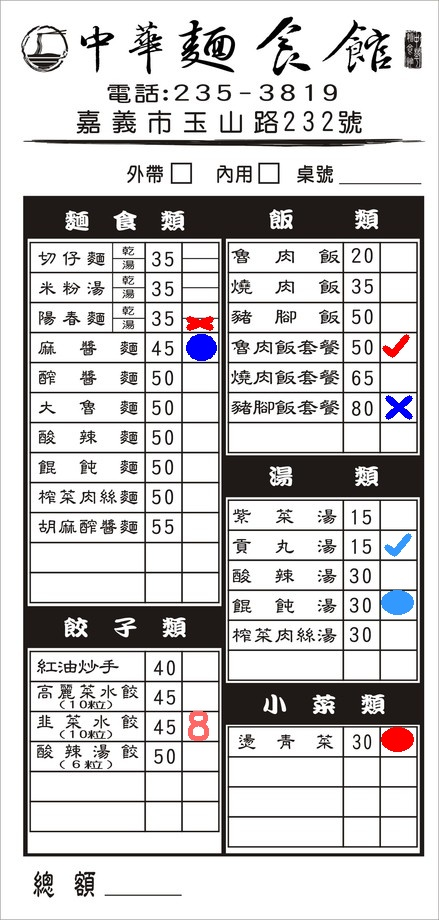marked_item: (378, 332, 414, 361), (380, 726, 416, 755), (380, 531, 416, 560), (381, 393, 417, 422), (181, 711, 217, 740), (380, 589, 416, 618), (182, 332, 218, 361), (183, 317, 217, 330)
